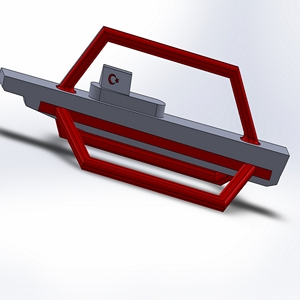submarine: (1, 5, 296, 225)
